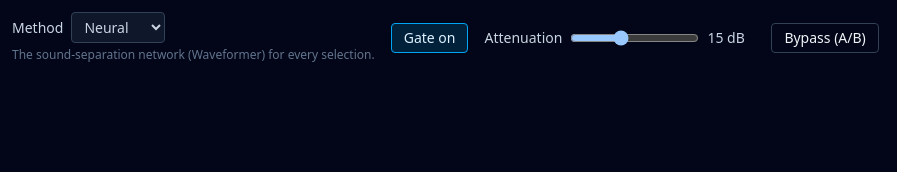
Scenario: the neural output gate (step 07b) › is switched while stopped and sent to the backend
Click the button with aria-label "Output gate": (430, 38) [391, 22, 468, 52]
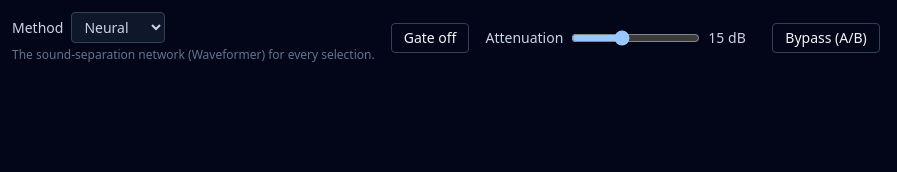
expect the button with aria-label "Output gate" reads "Gate off": met, box [391, 22, 470, 52]
